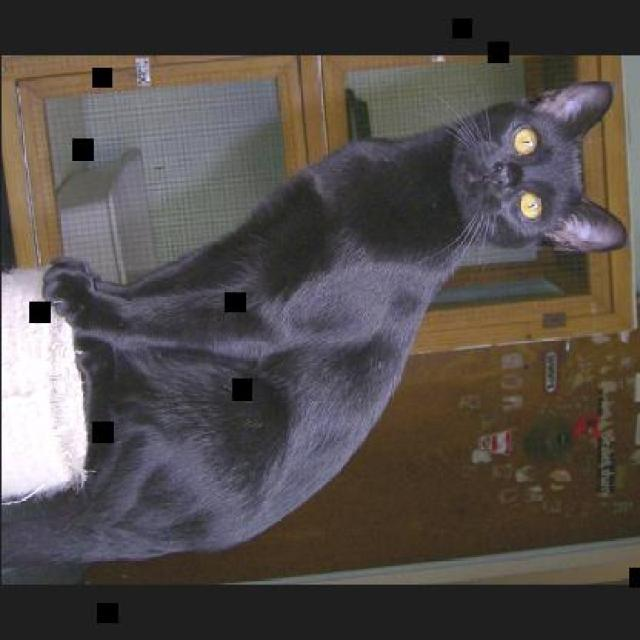unauthorized: (0, 77, 628, 574)
